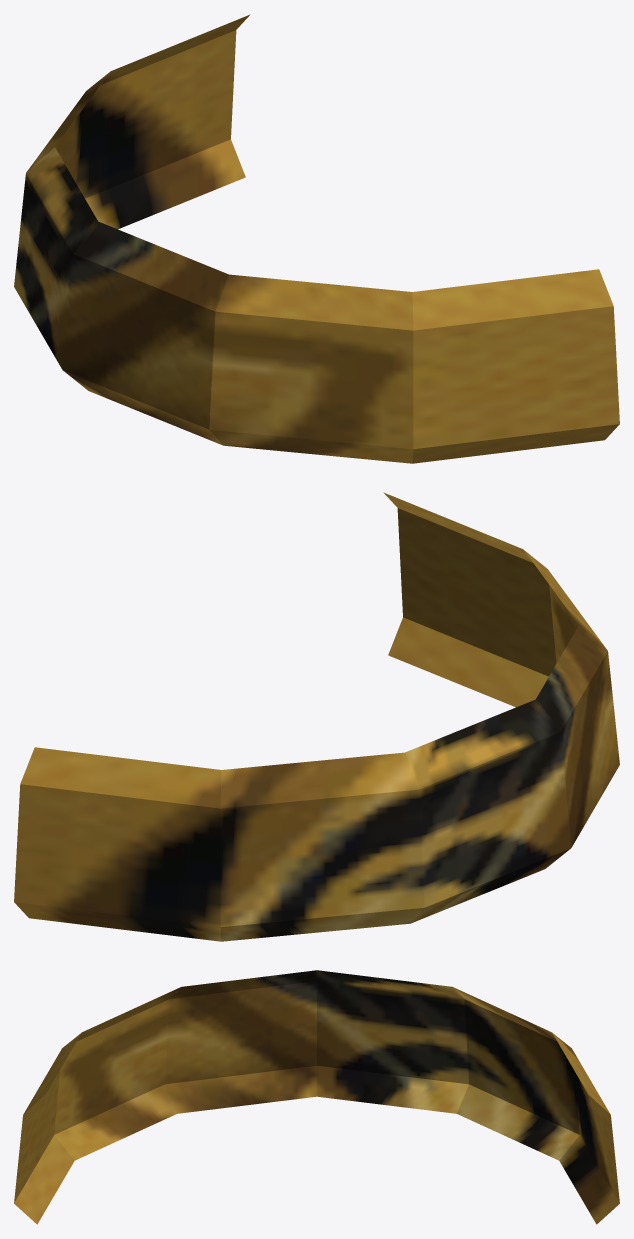
File: Wolf_blackBandana.obj
The picture shows the model from 3 angles, top to bottom: view 1: azimuth 30°, elevation 25°; view 2: azimuth 150°, elevation 25°; view 3: azimuth 270°, elevation 25°; orthographic projection. The views are drawn at different scales.
Visible parts, largest first — view 1: Wolf_blackBandana_tri; view 2: Wolf_blackBandana_tri; view 3: Wolf_blackBandana_tri.
Part boxes in pixels (x1=…): Wolf_blackBandana_tri: x1=14, y1=14, x2=619, y2=463; Wolf_blackBandana_tri: x1=14, y1=492, x2=619, y2=941; Wolf_blackBandana_tri: x1=14, y1=970, x2=619, y2=1224.
Size of the model in its own units: 0.1162 by 0.0512 by 0.2158.
Materials: 1 (1 with a texture image).
